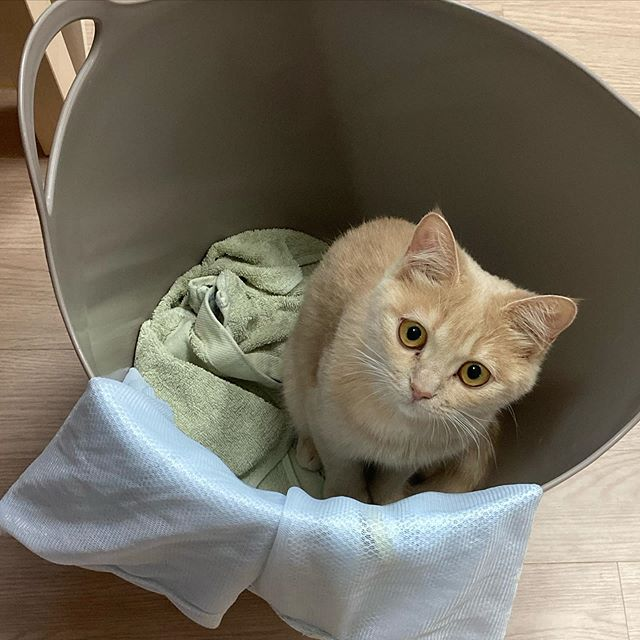cat: (363, 210, 579, 427)
